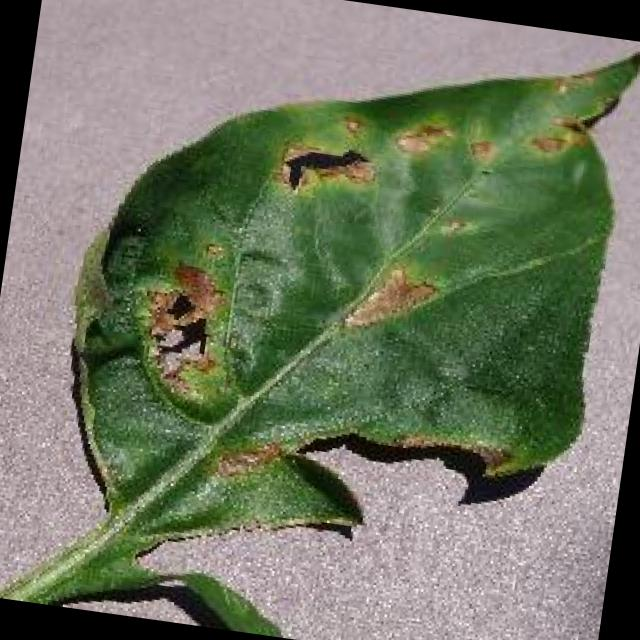Chilli_Bacterial_Spot: (41, 0, 640, 585), (121, 250, 257, 424), (336, 255, 446, 344), (272, 135, 382, 206), (161, 256, 232, 329), (206, 431, 288, 491), (522, 105, 594, 166), (388, 111, 456, 164), (158, 286, 201, 330), (460, 132, 502, 168), (525, 128, 568, 160), (336, 108, 370, 139), (197, 235, 230, 266)
